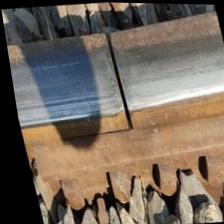person: (52, 21, 183, 143)
